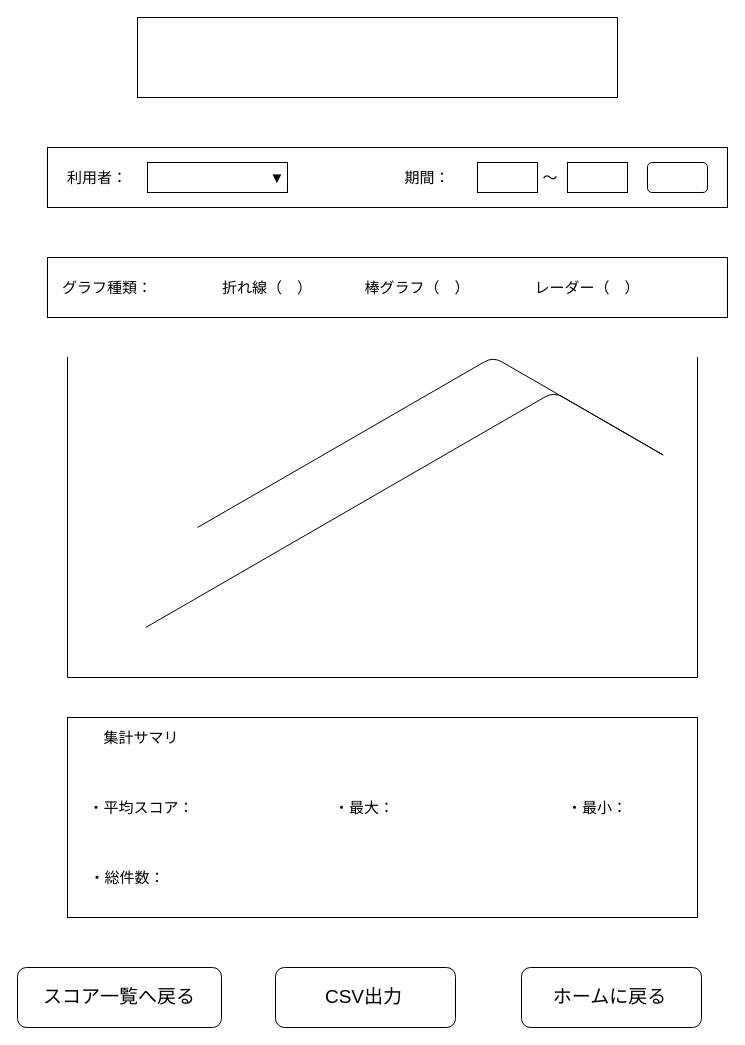
Image size: 745x1045. Some labels were removed from this diagram. Here are the shapes that lost their labels. From the top down, the centre of each, then its label:
At [377,57]: "集計/グラフ表示画面".
At [677,177]: "表示".
